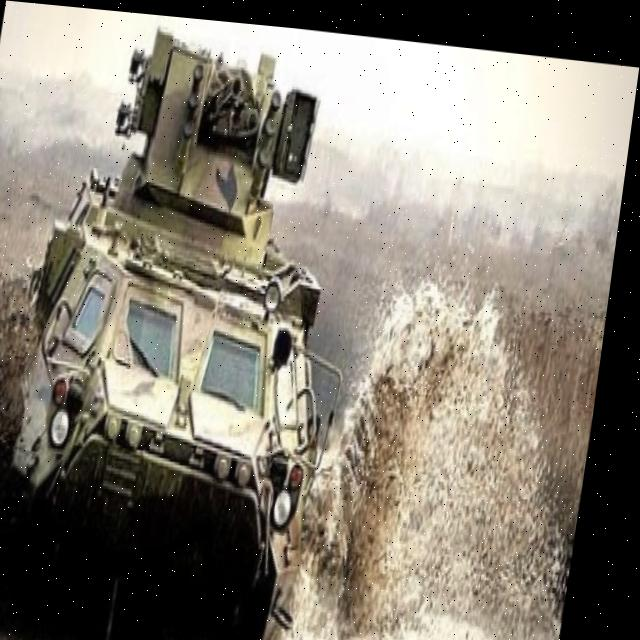MIL_APC: (0, 5, 385, 640)
